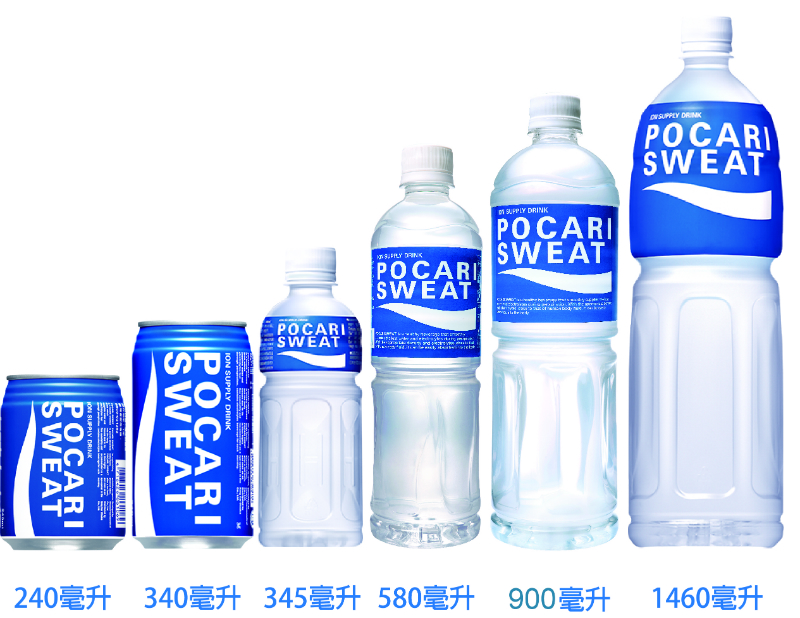POCARI SWEAT: (629, 11, 790, 549), (481, 97, 621, 549), (369, 141, 482, 542), (256, 238, 360, 550)
